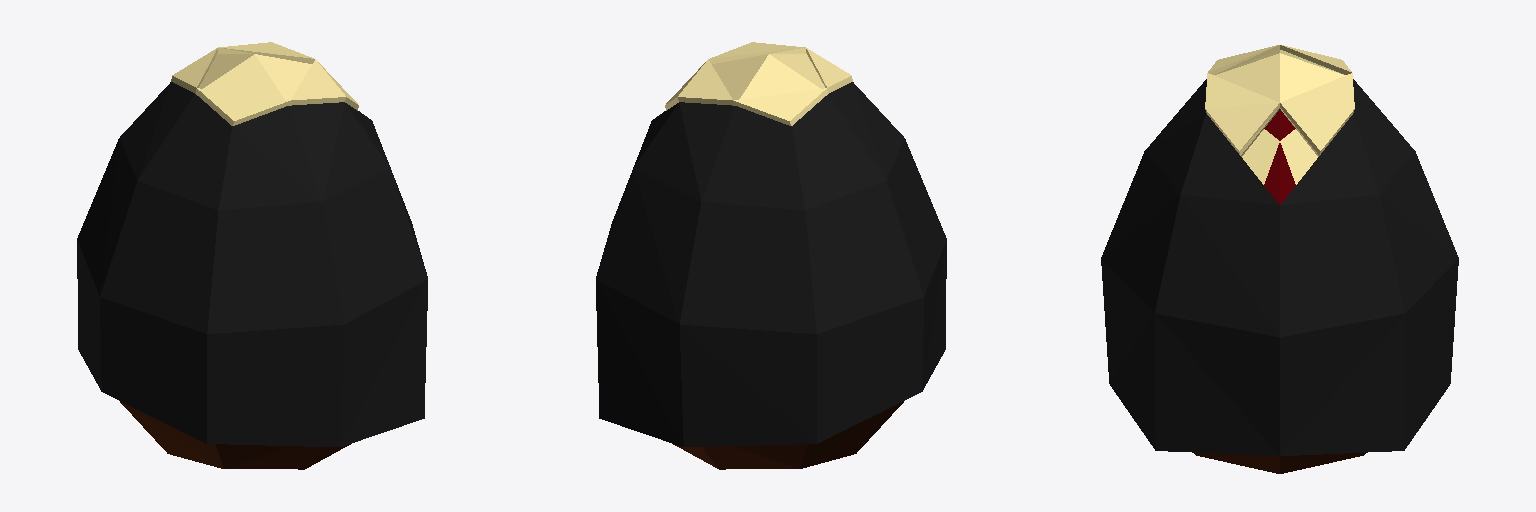
File: owl_body.obj
3 views of the same model, side by side, from view 1: azimuth 30°, elevation 25°; view 2: azimuth 150°, elevation 25°; view 3: azimuth 270°, elevation 25° (orthographic).
Parts seen in each view (by area): view 1: owl_body; view 2: owl_body; view 3: owl_body.
Boxes of the visible parts, box(x1,y1,x2,y2) form: owl_body: box(77, 42, 427, 469); owl_body: box(596, 42, 946, 469); owl_body: box(1101, 45, 1458, 473).
Bounding box in the file's own units: 0.3914 × 0.4845 × 0.3886.